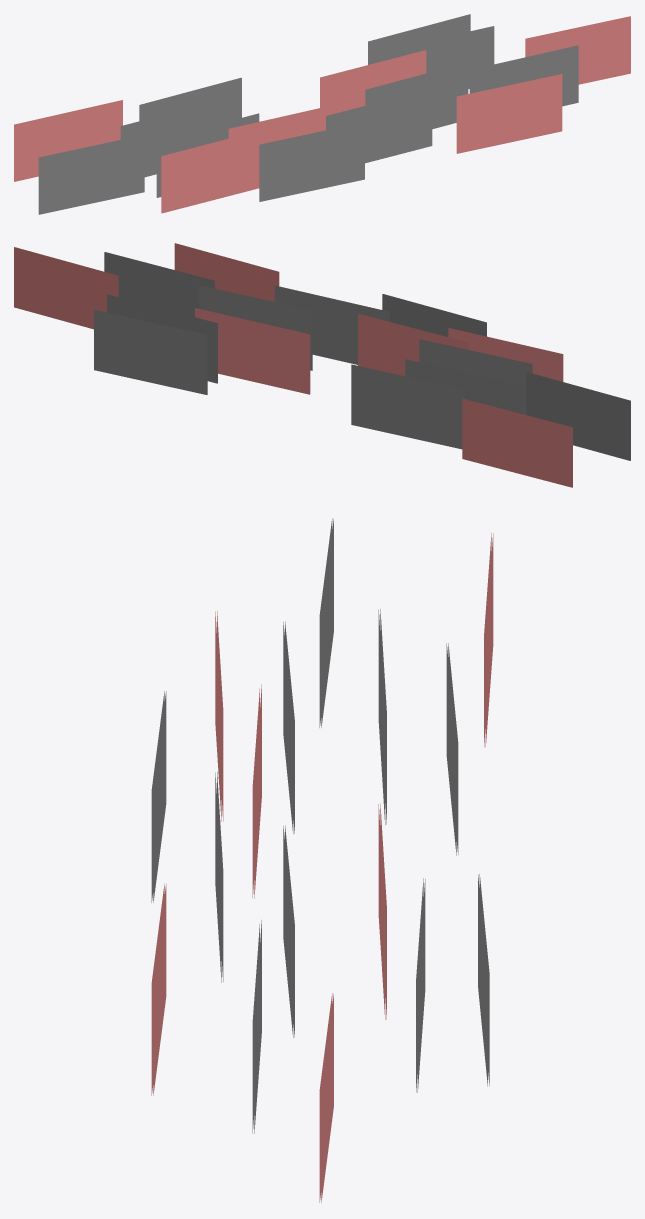
Rendered from Crowd_06.FBX.
3 views of the same model, one above another, from view 1: azimuth 30°, elevation 25°; view 2: azimuth 150°, elevation 25°; view 3: azimuth 270°, elevation 25° (orthographic). The views are drawn at different scales.
Visible parts, largest first — view 1: crowd006; view 2: crowd006; view 3: crowd006.
Part boxes in pixels (x1=…): crowd006: x1=14, y1=14, x2=630, y2=214; crowd006: x1=14, y1=243, x2=630, y2=487; crowd006: x1=151, y1=518, x2=493, y2=1202.
Size of the model in its own units: 540 by 50.13 by 136.
